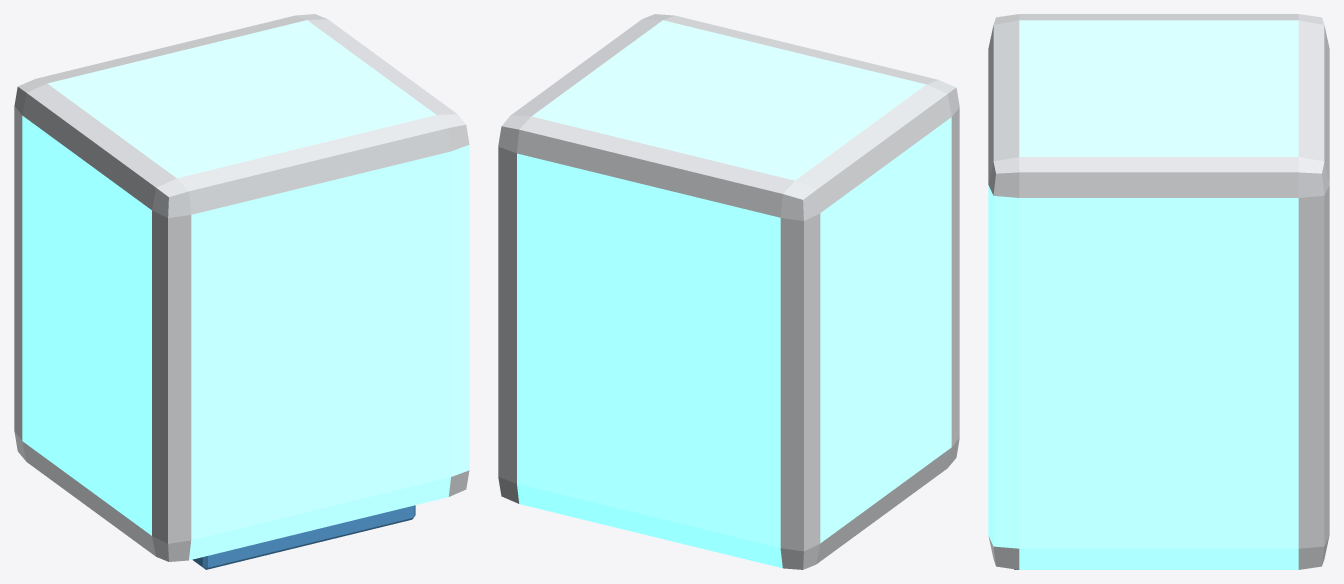
The model's file is helmet__heroic_face.glb.
3 views of the same model, side by side, from view 1: azimuth 30°, elevation 25°; view 2: azimuth 150°, elevation 25°; view 3: azimuth 270°, elevation 25° (orthographic). The views are drawn at different scales.
Visible parts, largest first — view 1: armor_armor_helmet__heroic_face_v001_v001; view 2: armor_armor_helmet__heroic_face_v001_v001; view 3: armor_armor_helmet__heroic_face_v001_v001.
Boxes of the visible parts, box(x1,y1,x2,y2) form: armor_armor_helmet__heroic_face_v001_v001: box(14, 14, 469, 569); armor_armor_helmet__heroic_face_v001_v001: box(498, 14, 959, 569); armor_armor_helmet__heroic_face_v001_v001: box(988, 14, 1329, 569).
Size of the model in its own units: 0.2742 by 0.3356 by 0.2429.
